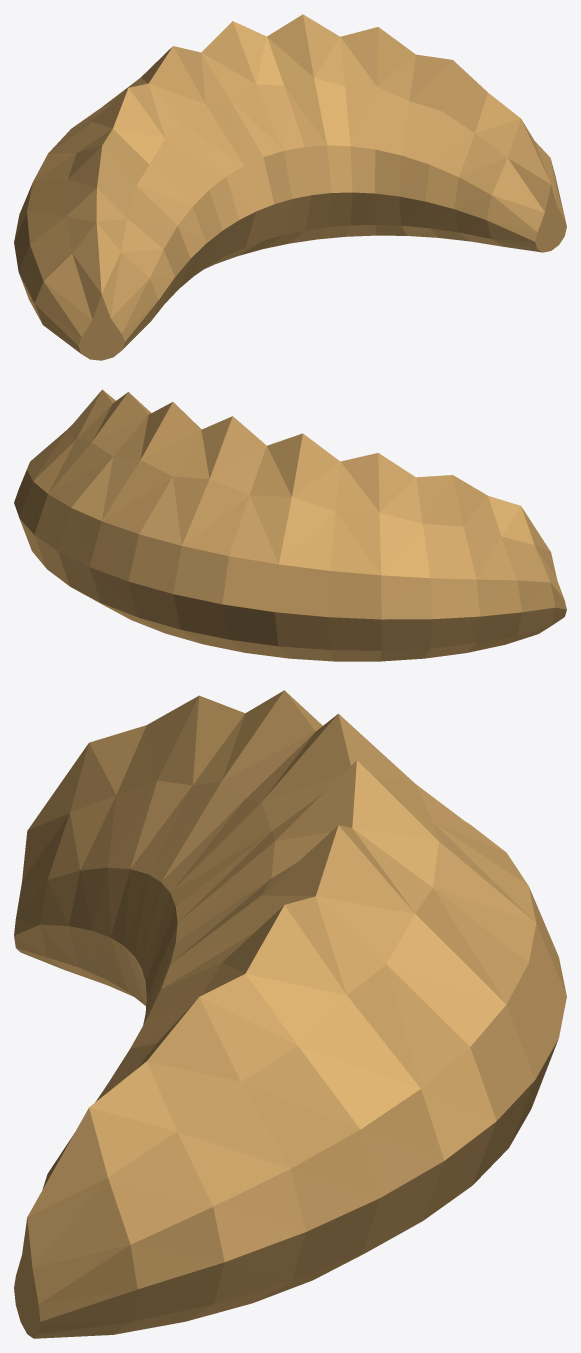
The model's file is ED_02_Pleated_Crescent.fbx.
The picture shows the model from 3 angles, top to bottom: view 1: azimuth 30°, elevation 25°; view 2: azimuth 150°, elevation 25°; view 3: azimuth 270°, elevation 25°; orthographic projection. The views are drawn at different scales.
Parts seen in each view (by area): view 1: ED_02_Pleated_Crescent; view 2: ED_02_Pleated_Crescent; view 3: ED_02_Pleated_Crescent.
Part boxes in pixels (<box>): ED_02_Pleated_Crescent: <box>14,14,566,360</box>; ED_02_Pleated_Crescent: <box>14,389,566,661</box>; ED_02_Pleated_Crescent: <box>14,690,566,1338</box>.
Bounding box in the file's own units: 1.03 × 0.4127 × 0.5397.
Materials: 1 (1 with a texture image).
